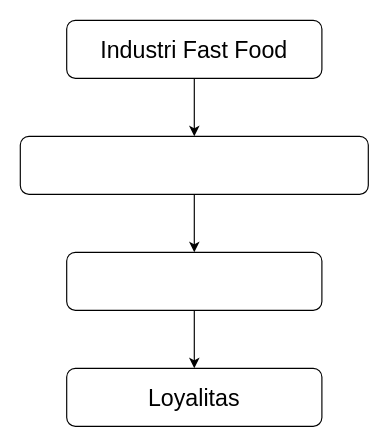
Image size: 389x447. Some labels were removed from this diagram. The shapes that lost their labels are listed below. From the top down, each one's centre as x and y in pixels, then its label:
At [193,164]: "Strategi Omnichanel Marketing".
At [194,280]: "Custumer Experience".
